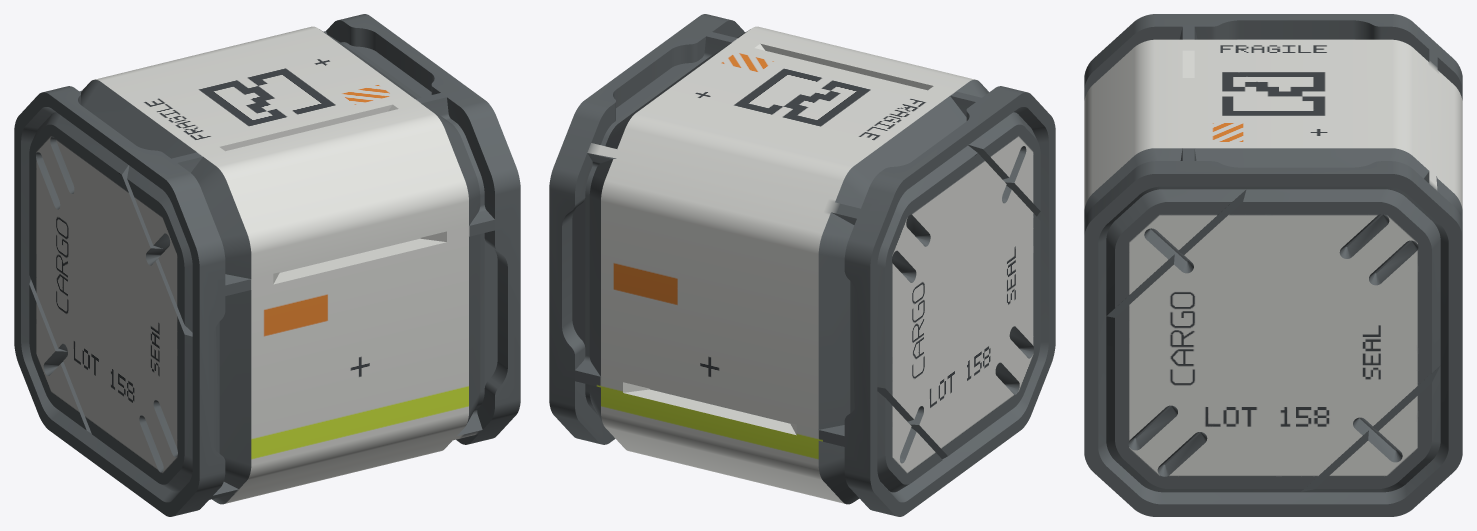
The model's file is short-box.glb.
The picture shows the model from 3 angles, left to right: view 1: azimuth 30°, elevation 25°; view 2: azimuth 150°, elevation 25°; view 3: azimuth 270°, elevation 25°; orthographic projection. The views are drawn at different scales.
Parts seen in each view (by area): view 1: short-box-high; view 2: short-box-high; view 3: short-box-high.
Boxes of the visible parts, x1=… form: short-box-high: x1=14, y1=14, x2=520, y2=516; short-box-high: x1=549, y1=14, x2=1055, y2=516; short-box-high: x1=1084, y1=14, x2=1462, y2=516.
Size of the model in its own units: 25 by 25 by 25.
1 material, 1 textured.
